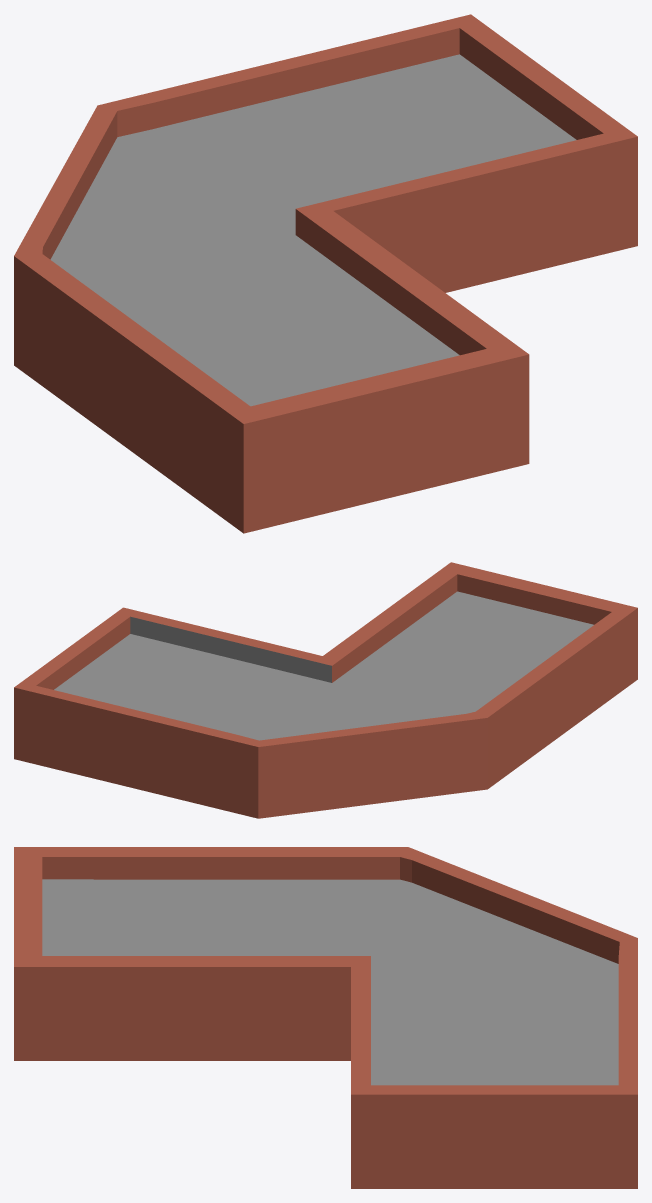
File: garden4.fbx
The picture shows the model from 3 angles, top to bottom: view 1: azimuth 30°, elevation 25°; view 2: azimuth 150°, elevation 25°; view 3: azimuth 270°, elevation 25°; orthographic projection. The views are drawn at different scales.
Visible parts, largest first — view 1: Cube; view 2: Cube; view 3: Cube.
Boxes of the visible parts, bbox=[...] form: Cube: bbox=[14, 14, 637, 533]; Cube: bbox=[14, 562, 637, 818]; Cube: bbox=[14, 847, 637, 1188].
Bounding box in the file's own units: 1128 × 200 × 1202.
